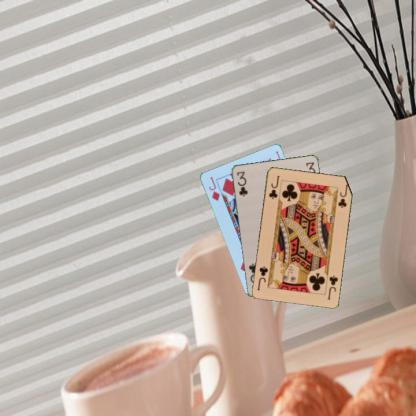3c: (234, 168, 249, 198)
Jc: (266, 172, 281, 200), (324, 273, 338, 300)
Jd: (206, 174, 221, 202)
